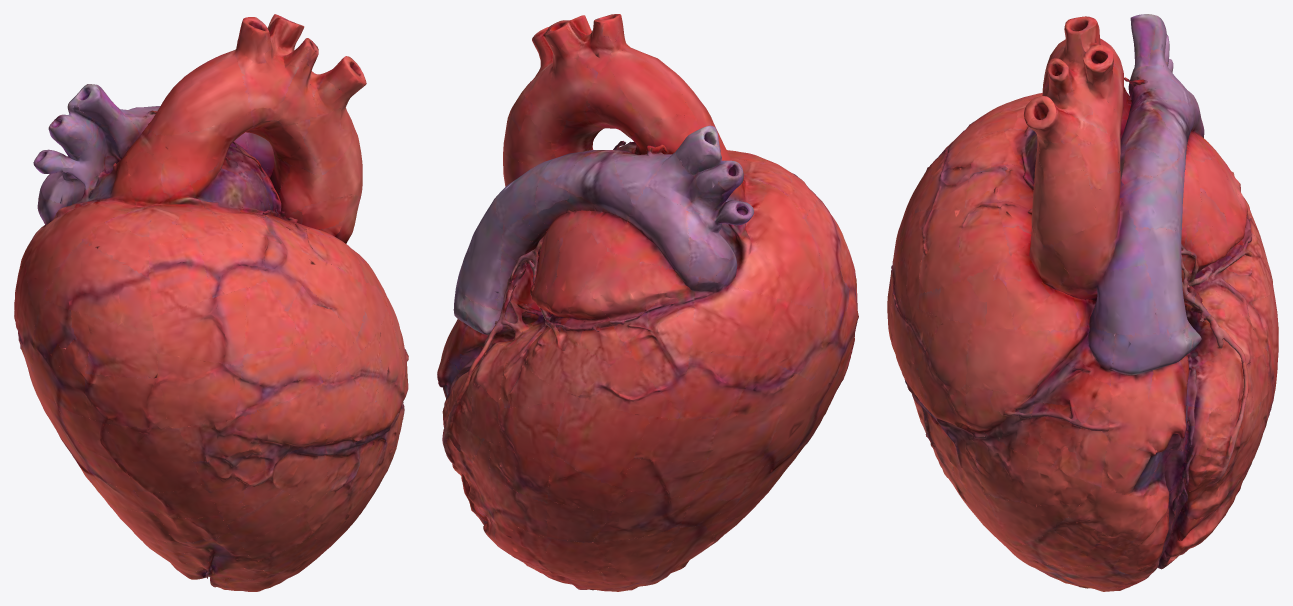
The model's file is dilated-heart.glb.
The picture shows the model from 3 angles, left to right: view 1: azimuth 30°, elevation 25°; view 2: azimuth 150°, elevation 25°; view 3: azimuth 270°, elevation 25°; orthographic projection.
Visible parts, largest first — view 1: Heart; view 2: Heart; view 3: Heart.
Boxes of the visible parts, bbox=[...] form: Heart: bbox=[14, 14, 408, 591]; Heart: bbox=[437, 14, 858, 591]; Heart: bbox=[887, 14, 1278, 591].
Size of the model in its own units: 0.1692 by 0.2549 by 0.1606.
Materials: 1 (1 with a texture image).
